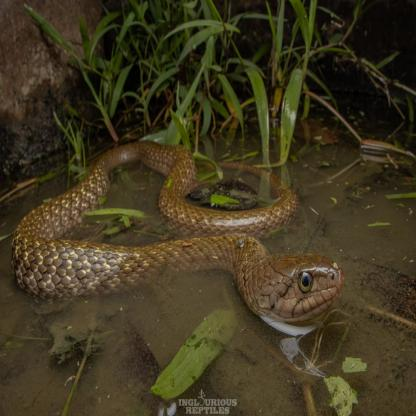Snake: (11, 140, 345, 329)
